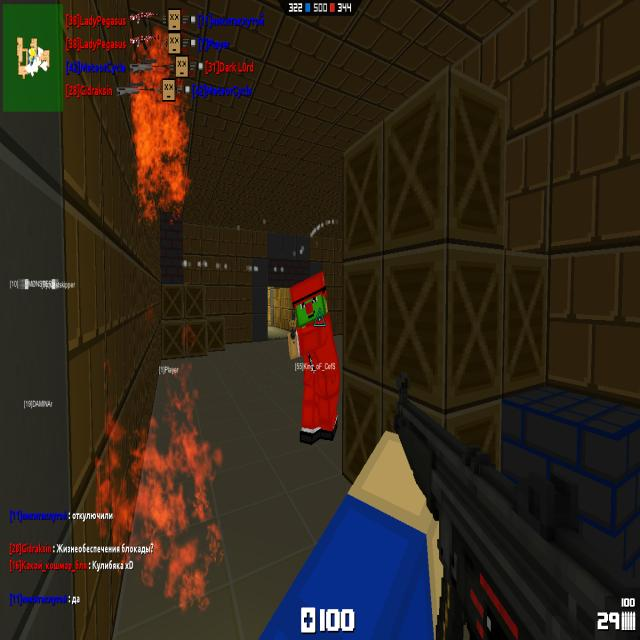enemy: (287, 268, 340, 446)
